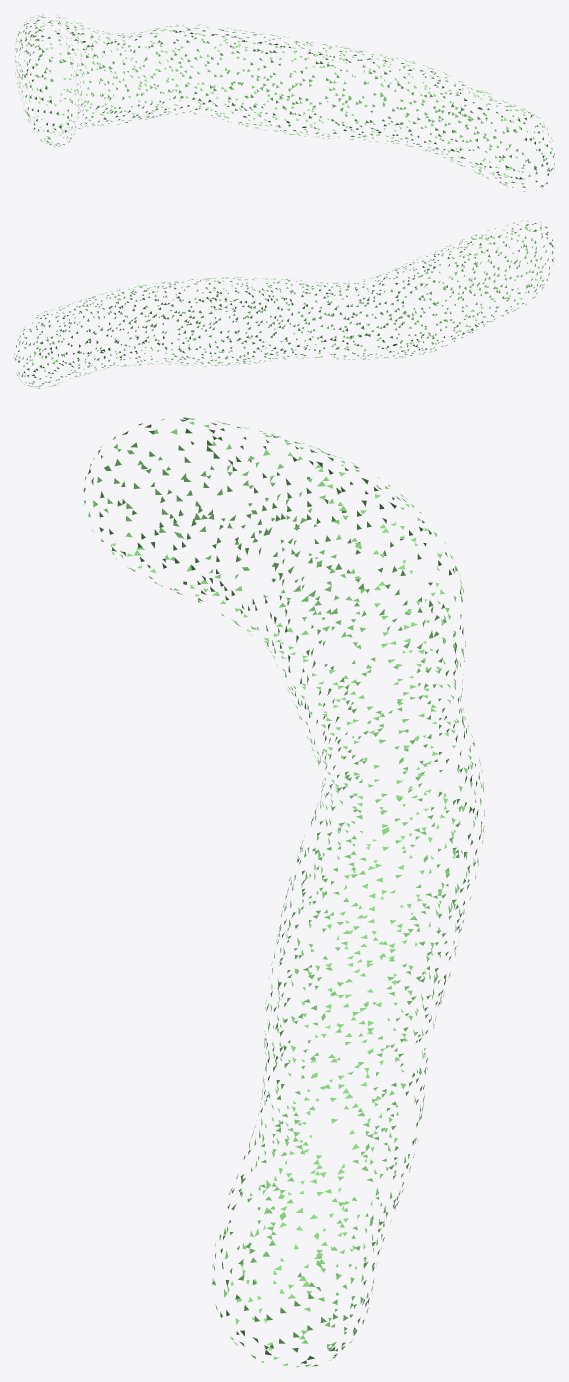
Rendered from morph_016.glb.
The picture shows the model from 3 angles, top to bottom: view 1: azimuth 30°, elevation 25°; view 2: azimuth 150°, elevation 25°; view 3: azimuth 270°, elevation 25°; orthographic projection. The views are drawn at different scales.
Bounding box in the file's own units: 115 × 57.53 × 41.31.
